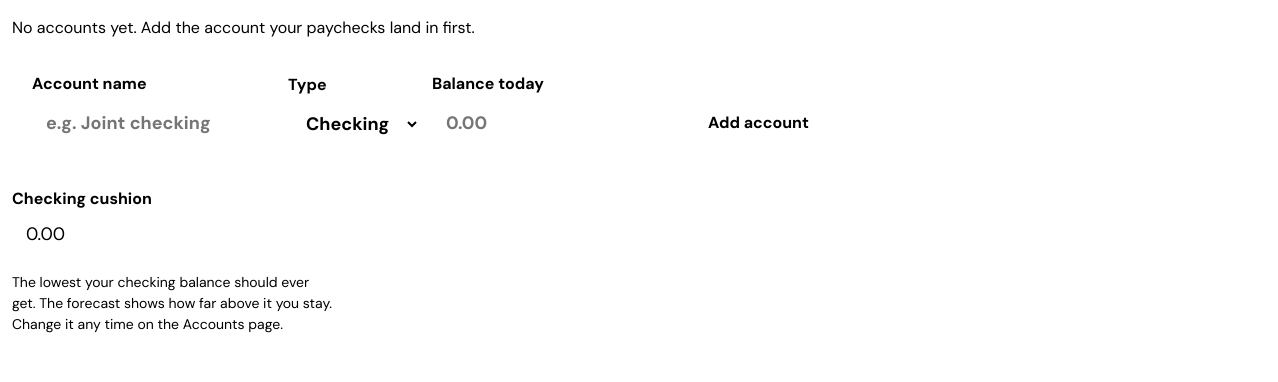
Test case: P1-10 bank accounts step › adds an account: type, name and balance go to the API as cents, and the list refreshes
Type " Joint checking " into the field labelled "Account name".
click(154, 124); type(" Joint checking ")  # box [32,100,276,147]
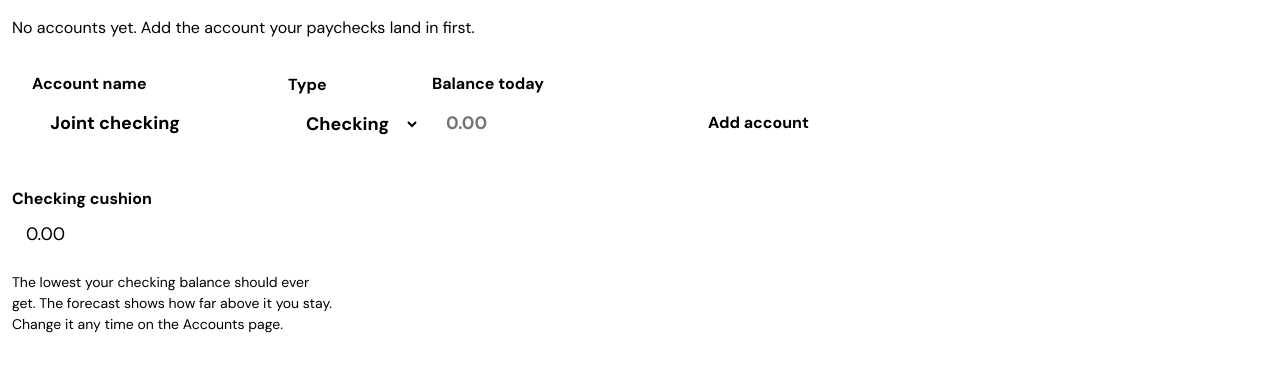
Select "Checking" in the dropdown labelled "Type" at coordinates (354, 124), box [288,101,420,147]
Type "1,234.56" into the field labelled "Balance today".
click(554, 124); type("1,234.56")  # box [432,100,676,147]
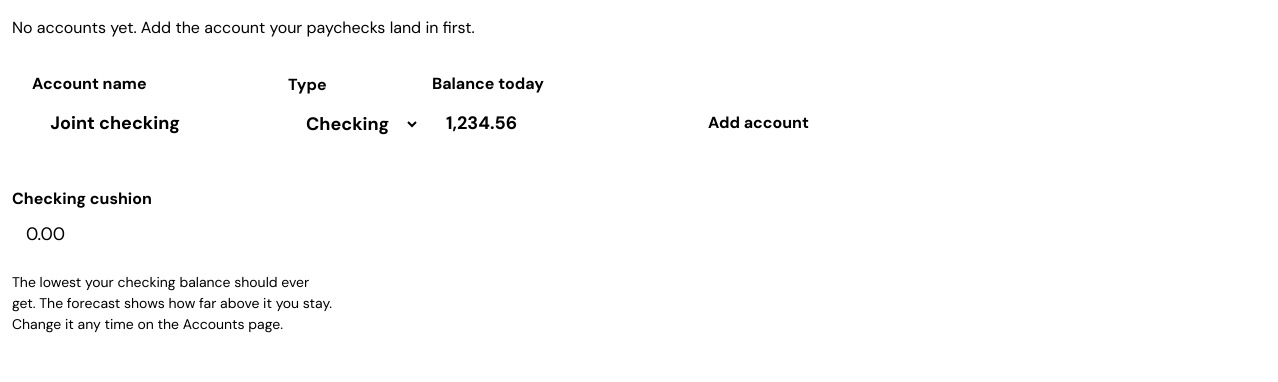
Click the button "Add account".
click(758, 123)  # box [688,99,829,147]
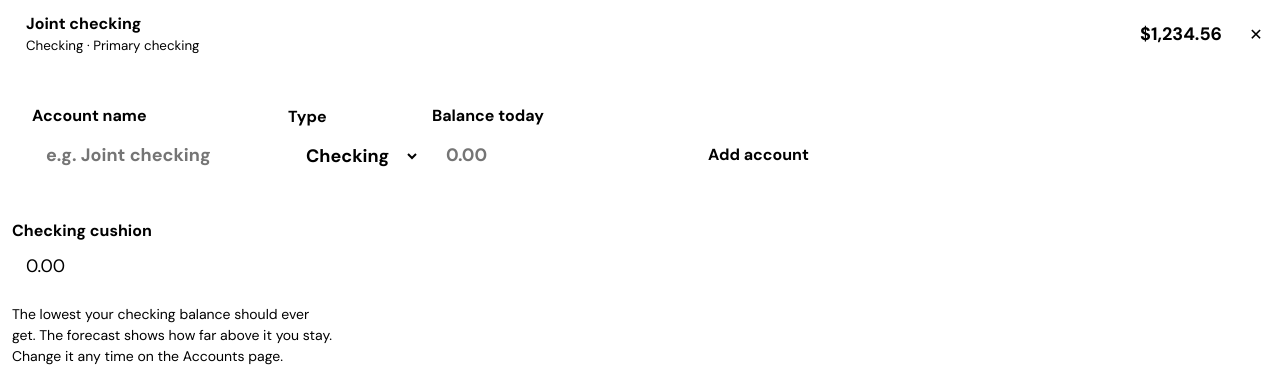
expect the text "Joint checking" is shown: met, box [26,13,141,34]
expect the text "Primary checking" is shown: met, box [93,37,200,54]
expect the field labelled "Account name" is empty: met, box [32,132,276,179]
